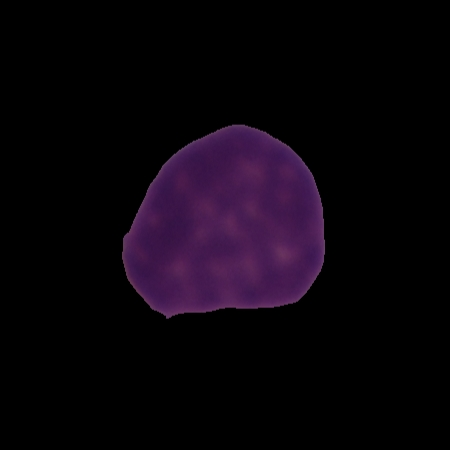HEM: (118, 122, 329, 322)
